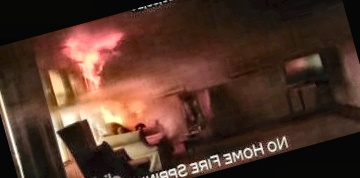fire: (54, 13, 159, 154)
